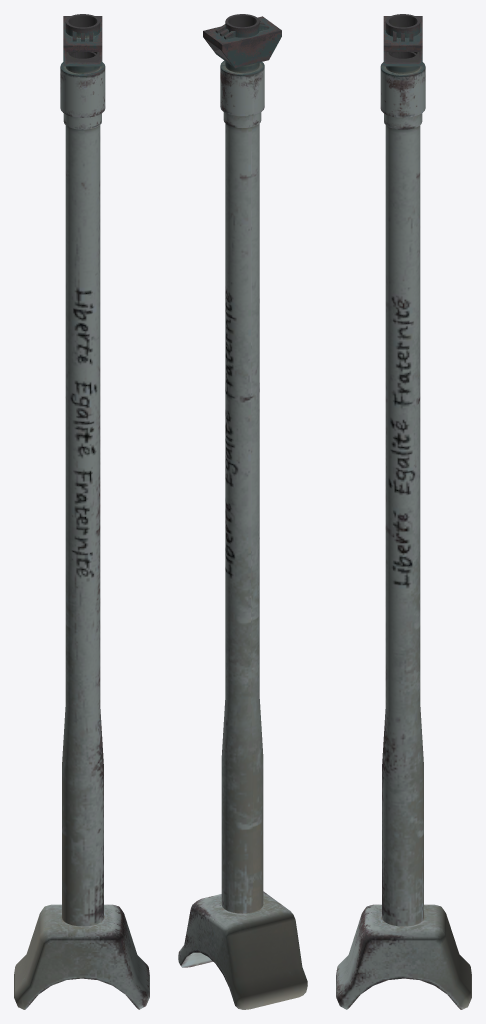
Rendered from Gun_01.glb.
3 views of the same model, side by side, from view 1: azimuth 90°, elevation 25°; view 2: azimuth 210°, elevation 25°; view 3: azimuth 270°, elevation 25° (orthographic).
Visible parts, largest first — view 1: set_0_group_0; view 2: set_0_group_0; view 3: set_0_group_0.
Boxes of the visible parts, x1,y1,x2,y2 form: set_0_group_0: (14,14,149,1009); set_0_group_0: (178,14,307,1009); set_0_group_0: (336,14,471,1009).
Bounding box in the file's own units: 0.4285 × 5.62 × 0.7093.
Materials: 1 (1 with a texture image).
